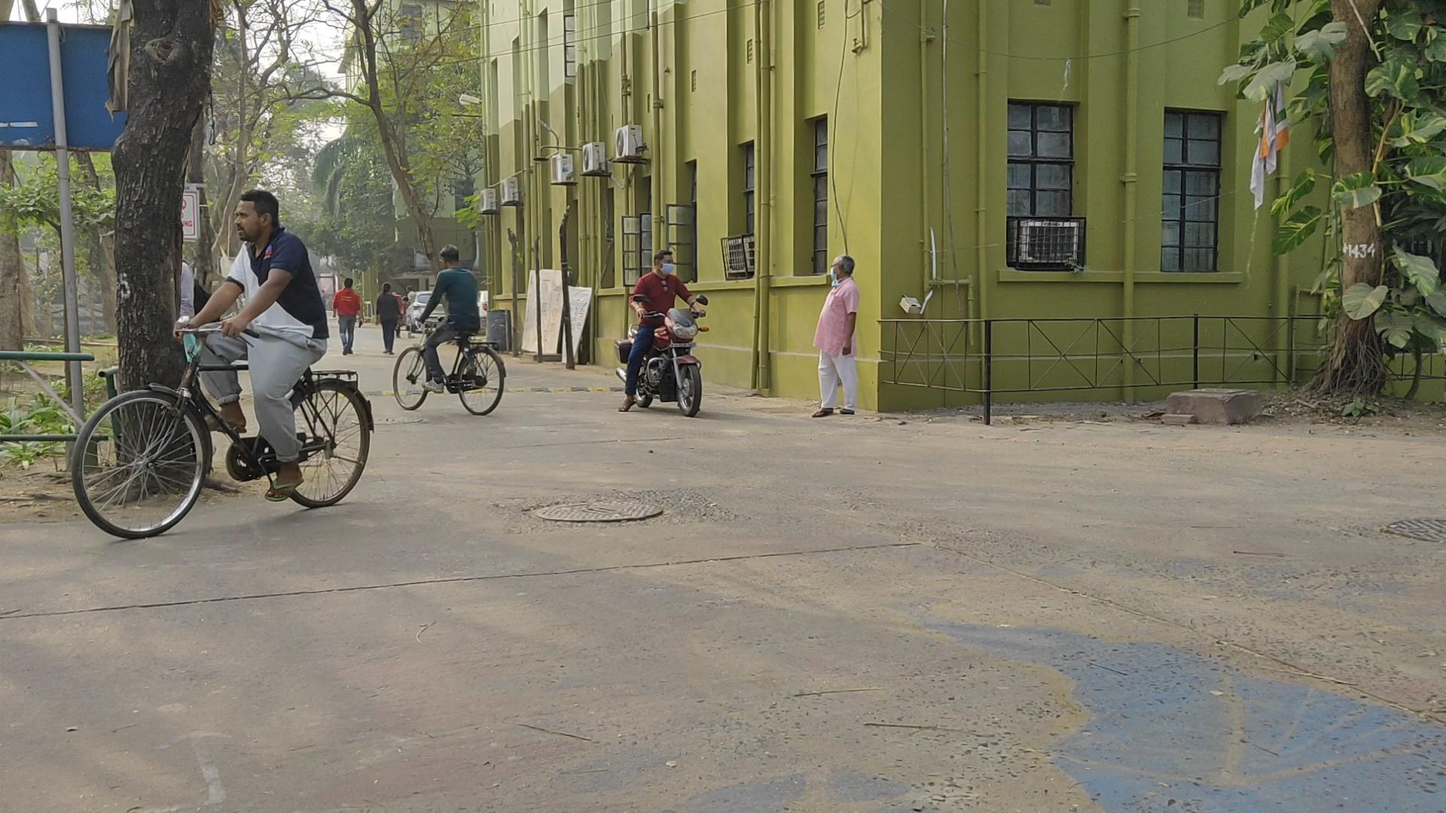bike: (70, 190, 376, 538), (392, 245, 507, 416), (613, 250, 711, 419)
car: (405, 291, 448, 332)
